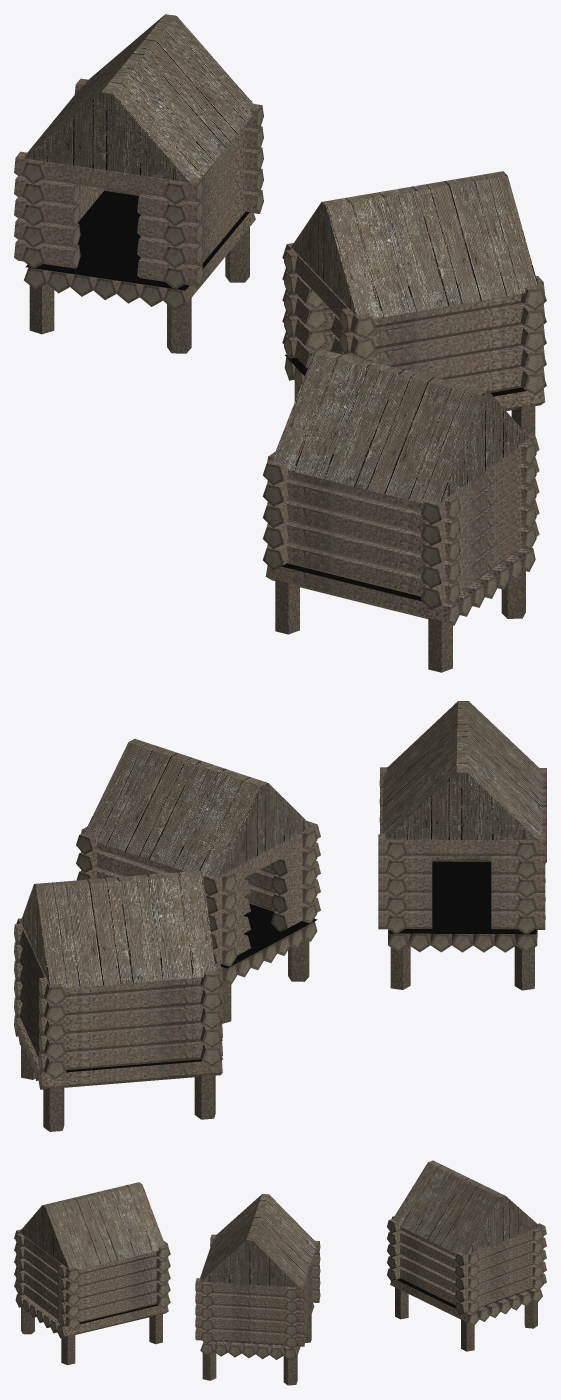
File: wood_cabins.obj
The picture shows the model from 3 angles, top to bottom: view 1: azimuth 30°, elevation 25°; view 2: azimuth 150°, elevation 25°; view 3: azimuth 270°, elevation 25°; orthographic projection. The views are drawn at different scales.
Visible parts, largest first — view 1: wood_cabins_Cylinder.016; view 2: wood_cabins_Cylinder.016; view 3: wood_cabins_Cylinder.016.
Part boxes in pixels (x1,y1,x2,y2): wood_cabins_Cylinder.016: [14, 14, 546, 672]; wood_cabins_Cylinder.016: [14, 701, 546, 1131]; wood_cabins_Cylinder.016: [14, 1160, 546, 1385].
Size of the model in its own units: 6.31 by 4.95 by 13.56.
3 materials, 3 textured.
